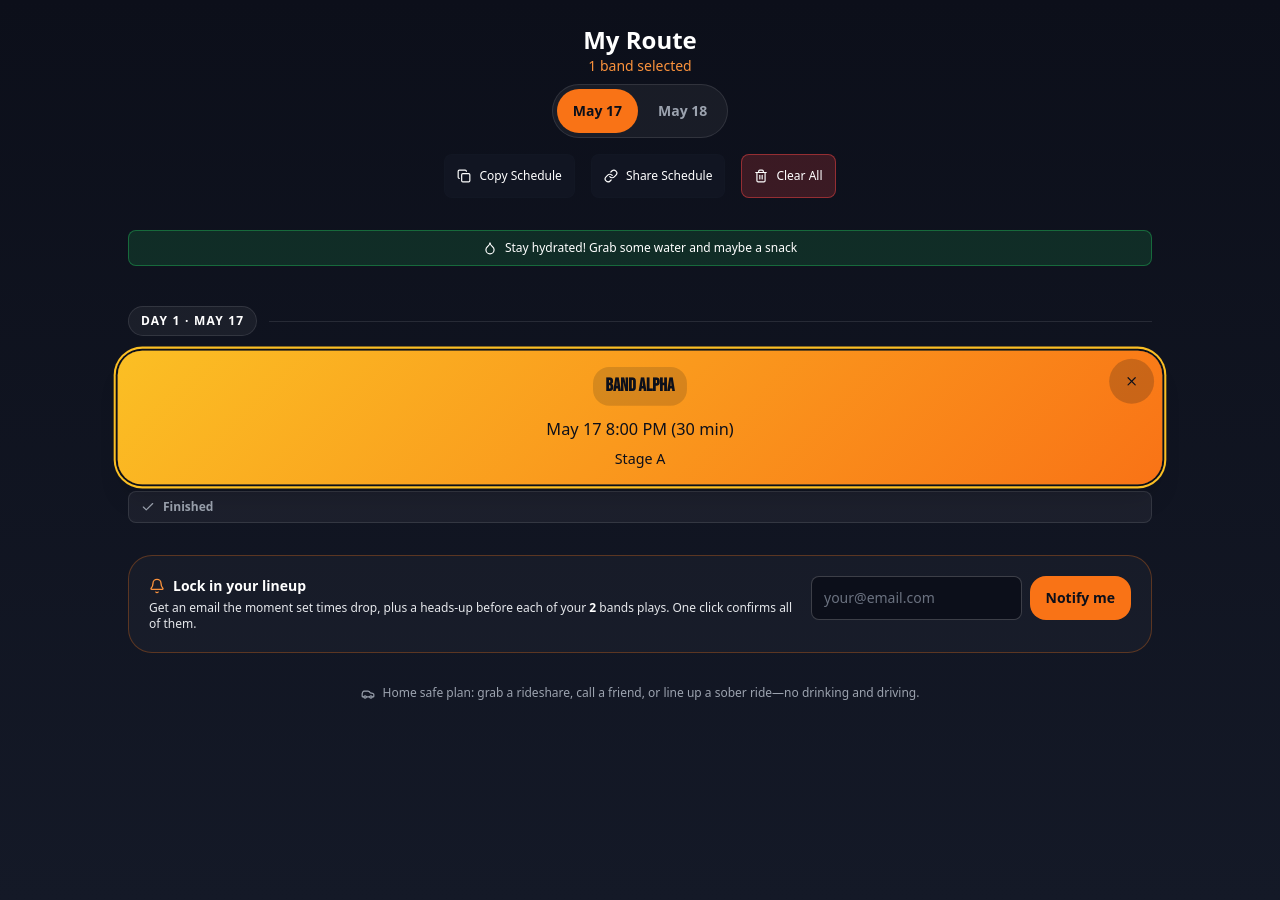
Test case: MySchedule — #542 PR-3: day-tab filter › switching tabs updates the rendered route
This screenshot has width=1280, height=900.
Expected: the link "Band Alpha" is shown, top-left (606, 375), bottom-right (674, 397)
Expected: the text "Band Beta" is not shown
What coordinates should you click on to do the following:
click the tab "May 18"
I would click on:
 (683, 111)
Its box is top-left (642, 89), bottom-right (723, 133).
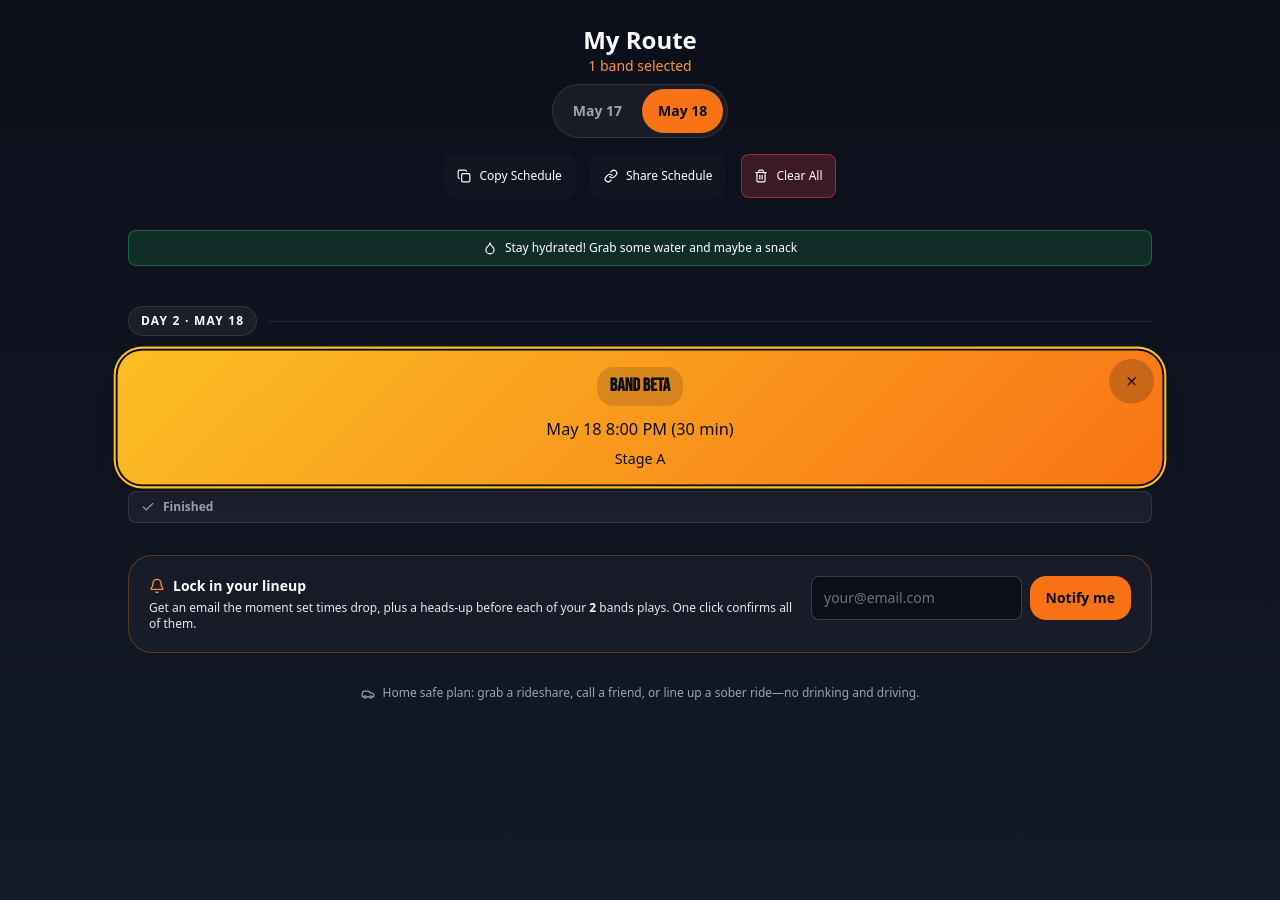
Expected: the link "Band Alpha" is gone
Expected: the link "Band Beta" is shown, top-left (610, 375), bottom-right (670, 397)
